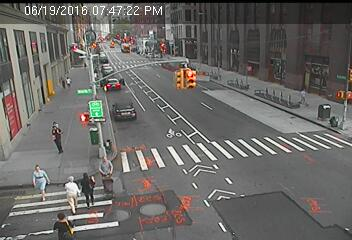neg: (159, 124, 180, 153), (243, 103, 264, 130), (281, 174, 300, 199), (179, 68, 196, 90), (264, 138, 280, 159), (234, 61, 249, 82), (93, 50, 108, 71), (177, 193, 192, 213), (152, 198, 166, 217), (105, 102, 119, 120), (303, 56, 316, 74), (125, 51, 138, 68), (233, 195, 245, 210), (212, 149, 223, 165), (185, 32, 196, 46)
pos: (22, 159, 54, 202), (54, 173, 85, 214), (41, 116, 70, 155), (75, 169, 103, 208), (54, 213, 72, 237), (298, 86, 310, 103)
